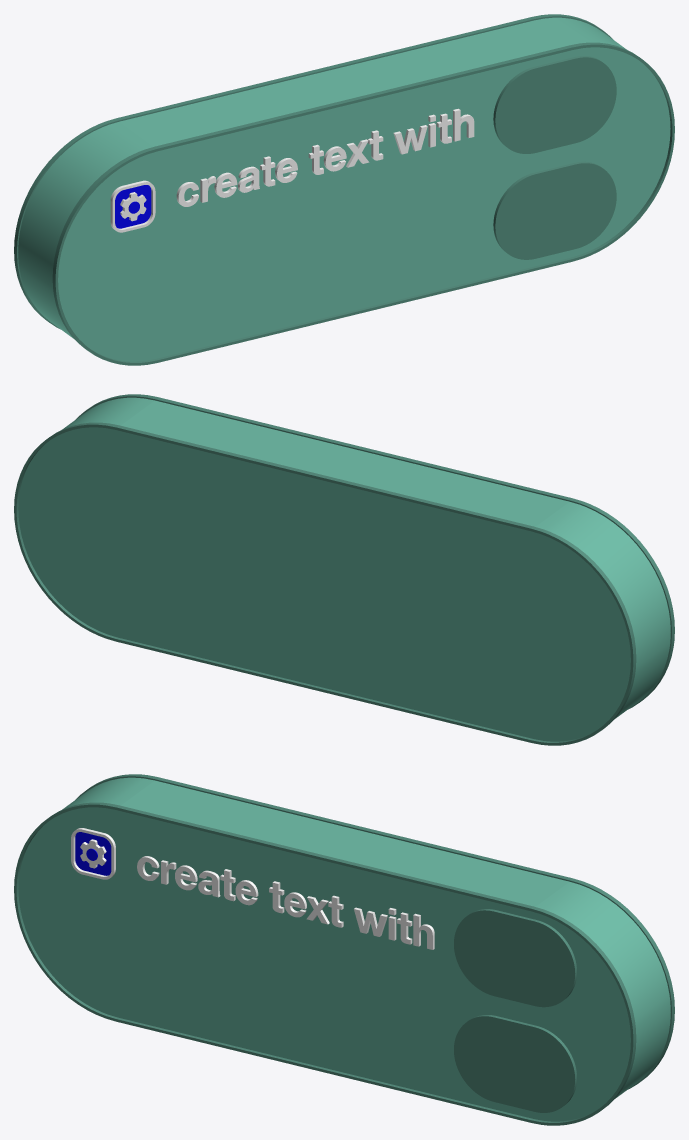
Rendered from text_join.gltf.
3 renders of one model, top to bottom at view 1: azimuth 30°, elevation 25°; view 2: azimuth 150°, elevation 25°; view 3: azimuth 330°, elevation 25°, orthographic.
Visible parts, largest first — view 1: Extrude.21, Extrude.1, Extrude.2, Extrude.20, Extrude.22, Polygon, Extrude.18, Extrude.6; view 2: Extrude.21, Extrude.22, Extrude.20; view 3: Extrude.21, Extrude.2, Extrude.1, Extrude.20, Extrude.22, Polygon, Extrude.18, Extrude.6.
Part boxes in pixels (box(x1,y1,x2,y2)): Extrude.21: box(18, 17, 670, 361); Extrude.1: box(493, 161, 616, 259); Extrude.2: box(493, 56, 616, 153); Extrude.20: box(52, 42, 674, 365); Extrude.22: box(14, 14, 612, 329); Polygon: box(115, 185, 151, 228); Extrude.18: box(110, 180, 155, 232); Extrude.6: box(393, 125, 427, 154); Extrude.21: box(18, 397, 670, 741); Extrude.22: box(14, 422, 636, 745); Extrude.20: box(76, 394, 674, 709); Extrude.21: box(18, 777, 670, 1121); Extrude.2: box(454, 909, 576, 1007); Extrude.1: box(454, 1015, 576, 1112); Extrude.20: box(14, 802, 636, 1125); Extrude.22: box(75, 774, 674, 1089); Polygon: box(75, 832, 111, 875); Extrude.18: box(71, 828, 115, 879); Extrude.6: box(354, 907, 387, 936).
Size of the model in its own units: 0.6168 by 0.2039 by 0.0726.
